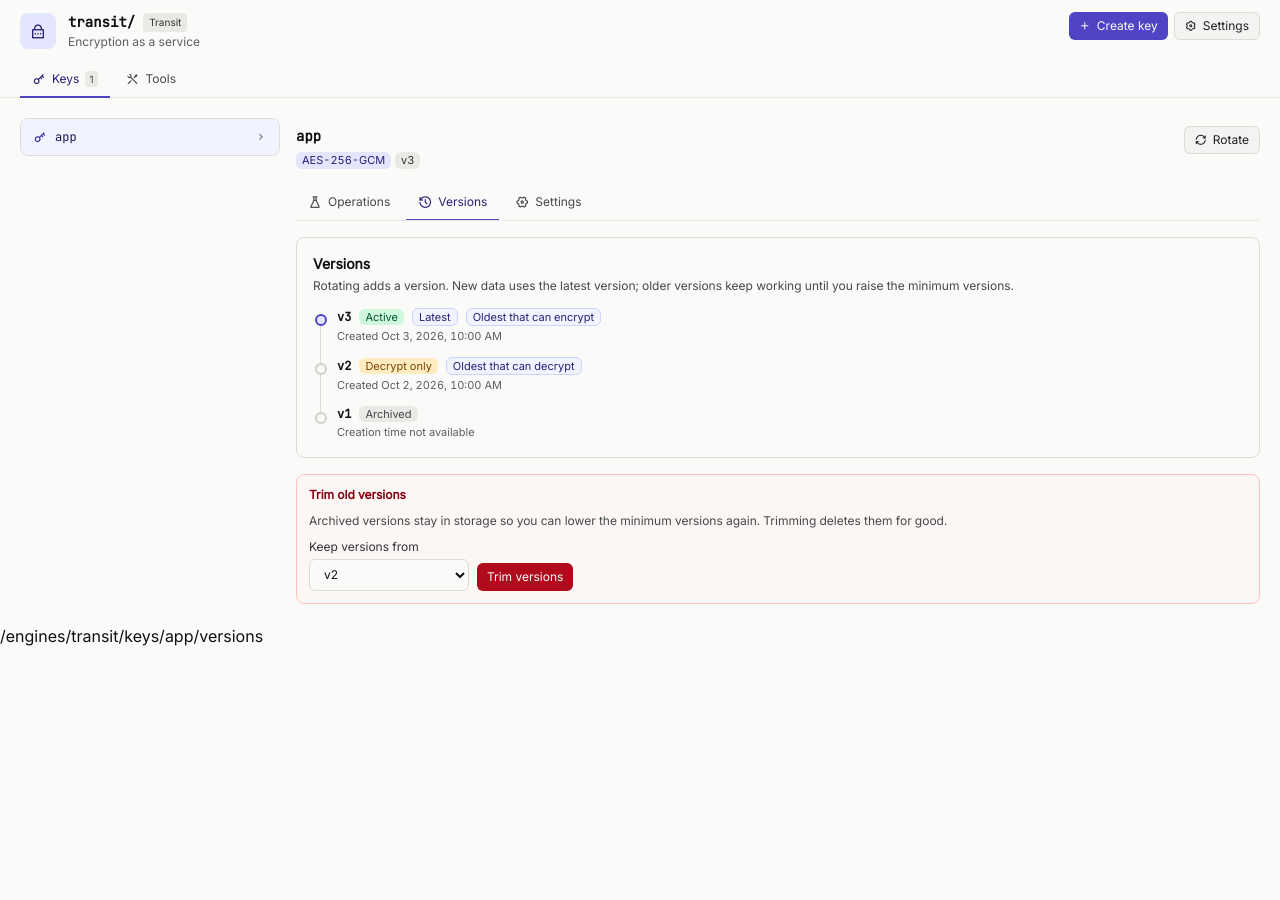
Test case: Transit workspace keys › rotates after confirmation and shows the version timeline
The width and height of the screenshot is (1280, 900).
Click the button "Rotate". click: (1222, 140)
box: top-left (1184, 126), bottom-right (1260, 154)
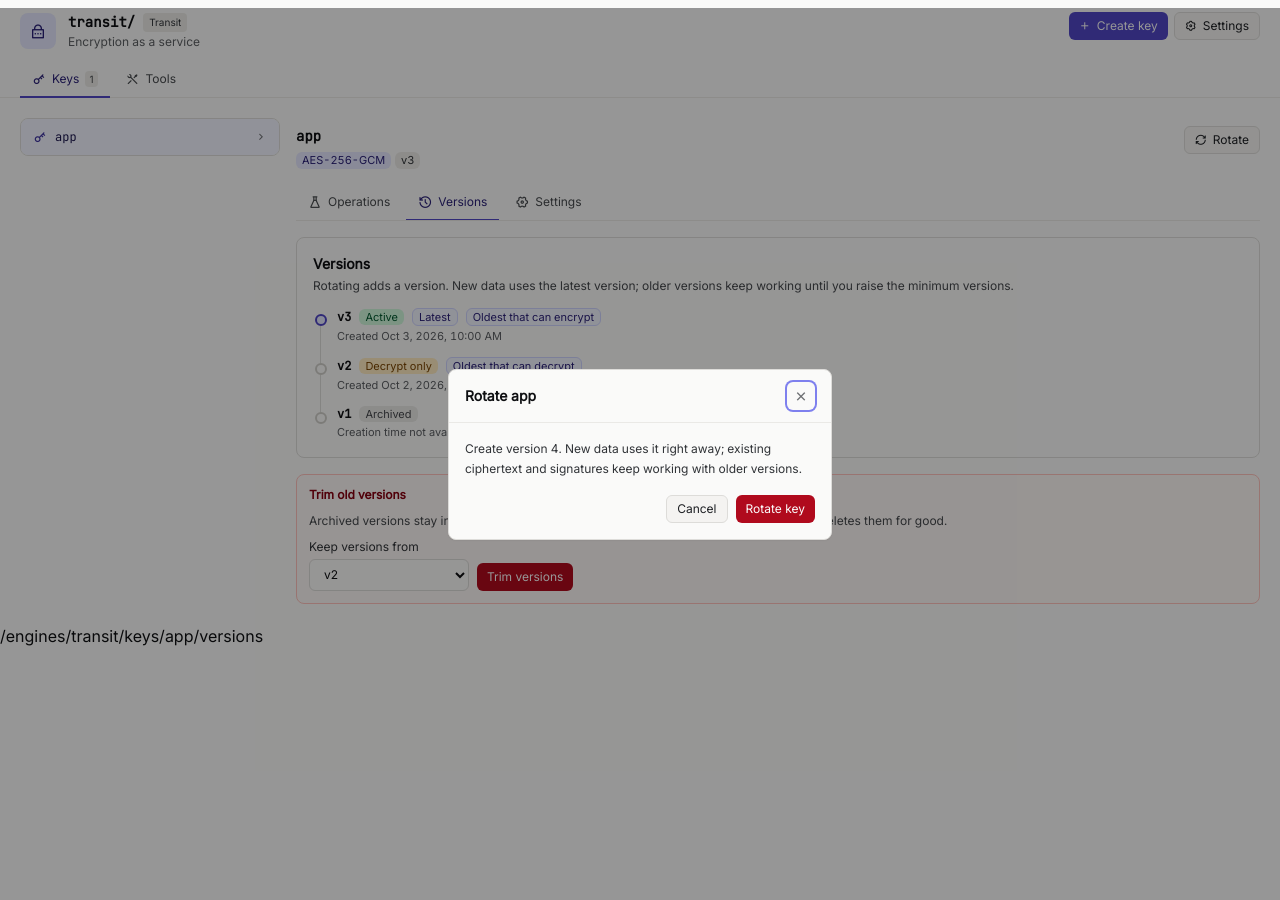
Expected: the text "Create version 4" is shown, top-left (465, 440), bottom-right (802, 476)
Click the button "Rotate key". click: (775, 508)
box: top-left (736, 494), bottom-right (815, 522)
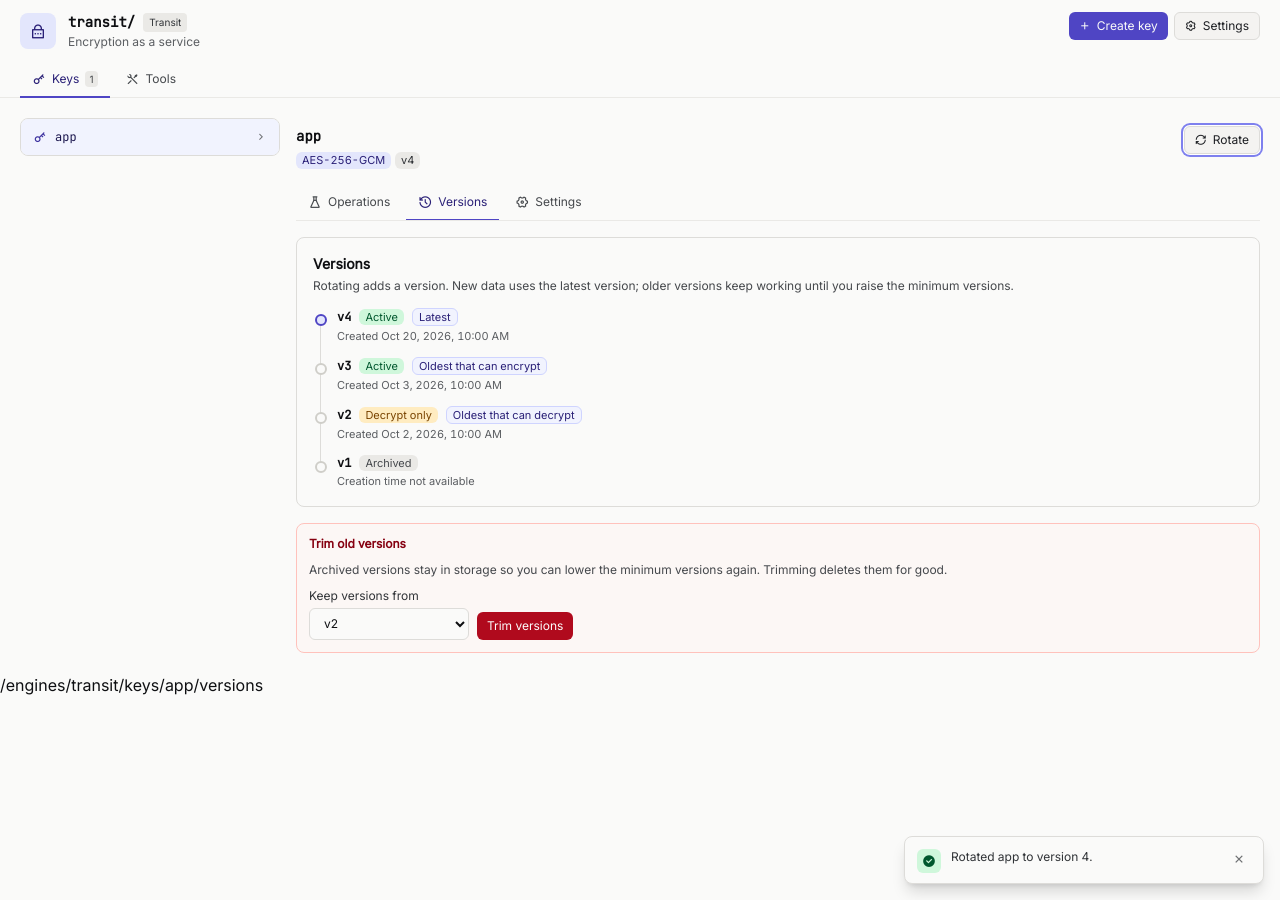
Expected: the text "Rotated app to version 4." is shown, top-left (951, 849), bottom-right (1092, 864)
